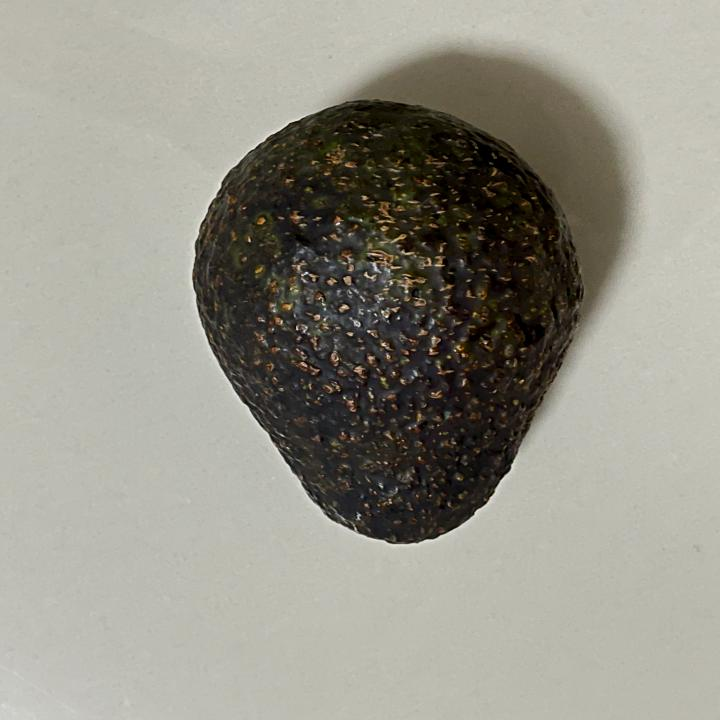Level1: (173, 89, 596, 557)
